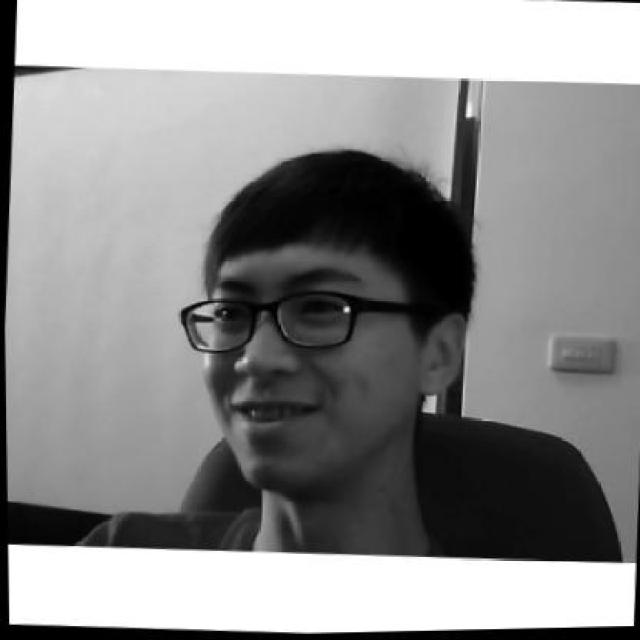attentif: (167, 138, 475, 500)
